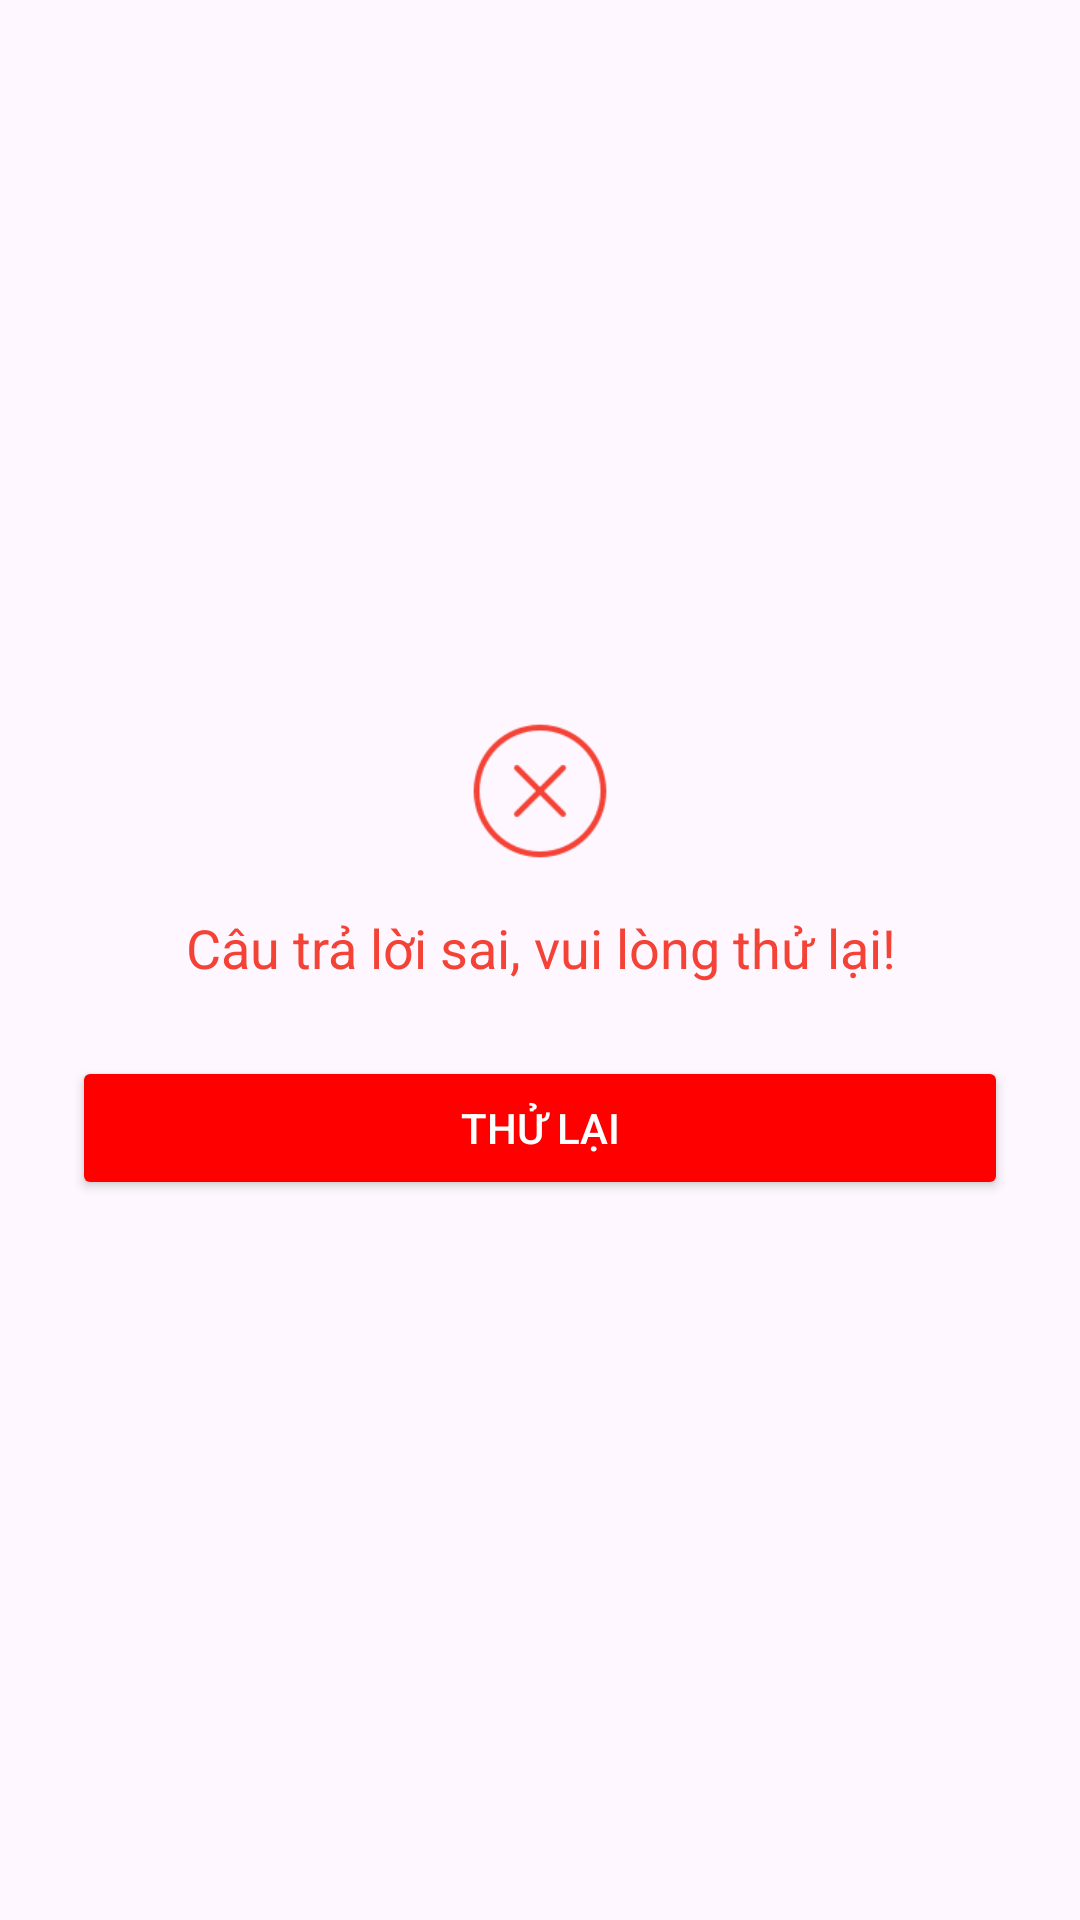

Named icons in this screenshot (1080 x 1920) and their centers, point (x, y):
wrong: point (540, 791)
